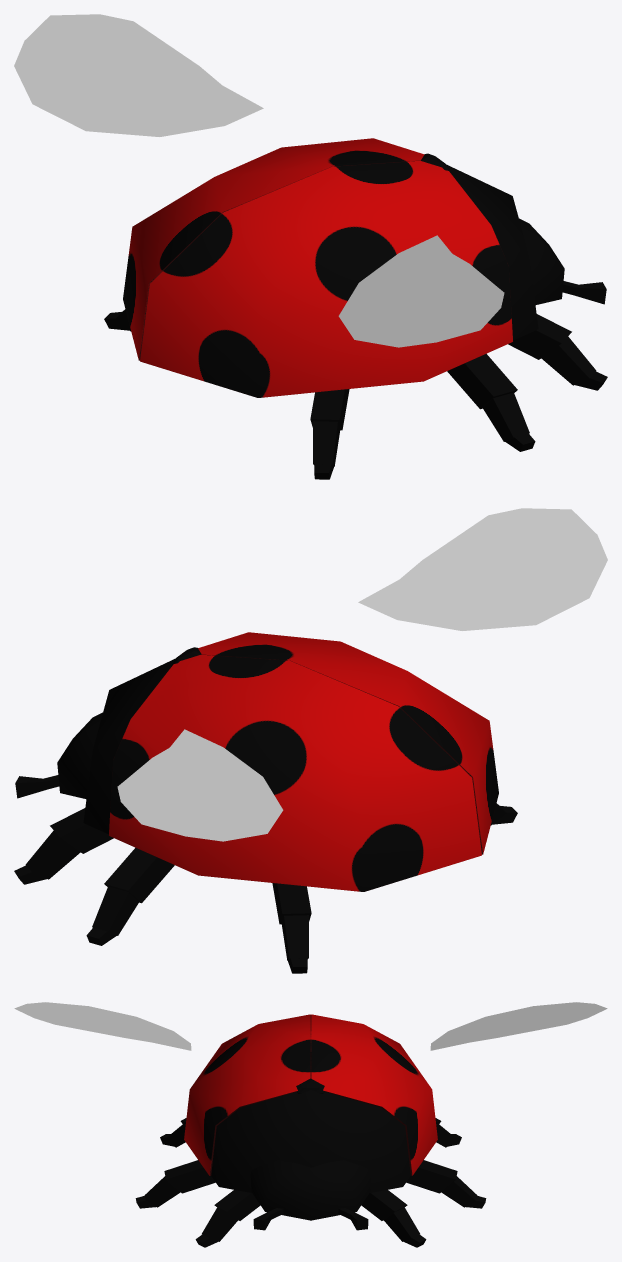
Rendered from ladybug 3.obj.
The picture shows the model from 3 angles, top to bottom: view 1: azimuth 30°, elevation 25°; view 2: azimuth 150°, elevation 25°; view 3: azimuth 270°, elevation 25°; orthographic projection. The views are drawn at different scales.
Visible parts, largest first — view 1: R_wing_shell, L_wing4, L_wing_shell, R_wing3, body2, head, polySurface8 R_leg2, R_leg2 polySurface6, R_leg1 polySurface3, R_leg1 polySurface5, R_leg3 polySurface11, R_leg3 polySurface9 (+1 smaller); view 2: L_wing_shell, R_wing3, R_wing_shell, L_wing4, body2, head, L_leg2 polySurface17, L_leg2 polySurface15, L_leg1 polySurface12, polySurface14 L_leg1, polySurface20 L_leg3, L_leg3 polySurface18 (+1 smaller); view 3: body2, L_wing_shell, R_wing_shell, head, R_wing3, L_wing4, polySurface8 R_leg2, L_leg2 polySurface17, R_leg1 polySurface5, polySurface14 L_leg1, R_leg1 polySurface3, L_leg1 polySurface12 (+4 smaller).
Part boxes in pixels (bbox=[...]): R_wing_shell: bbox=[140, 160, 512, 397]; L_wing4: bbox=[14, 14, 263, 136]; L_wing_shell: bbox=[123, 138, 424, 360]; R_wing3: bbox=[338, 235, 504, 347]; body2: bbox=[420, 153, 538, 340]; head: bbox=[519, 218, 564, 304]; polySurface8 R_leg2: bbox=[447, 353, 517, 409]; R_leg2 polySurface6: bbox=[483, 392, 529, 441]; R_leg1 polySurface3: bbox=[541, 336, 596, 385]; R_leg1 polySurface5: bbox=[508, 314, 571, 359]; R_leg3 polySurface11: bbox=[310, 389, 349, 430]; R_leg3 polySurface9: bbox=[313, 421, 340, 466]; L_wing_shell: bbox=[109, 654, 481, 891]; R_wing3: bbox=[358, 508, 607, 630]; R_wing_shell: bbox=[198, 632, 498, 854]; L_wing4: bbox=[117, 729, 283, 841]; body2: bbox=[83, 647, 201, 834]; head: bbox=[57, 712, 102, 798]; L_leg2 polySurface17: bbox=[104, 847, 174, 903]; L_leg2 polySurface15: bbox=[92, 886, 138, 935]; L_leg1 polySurface12: bbox=[25, 830, 80, 879]; polySurface14 L_leg1: bbox=[50, 808, 113, 853]; polySurface20 L_leg3: bbox=[272, 883, 311, 924]; L_leg3 polySurface18: bbox=[281, 915, 308, 960]; body2: bbox=[211, 1078, 410, 1192]; L_wing_shell: bbox=[311, 1014, 437, 1175]; R_wing_shell: bbox=[184, 1014, 310, 1175]; head: bbox=[250, 1160, 371, 1220]; R_wing3: bbox=[14, 1002, 191, 1050]; L_wing4: bbox=[430, 1002, 607, 1050]; polySurface8 R_leg2: bbox=[164, 1160, 215, 1193]; L_leg2 polySurface17: bbox=[406, 1160, 457, 1193]; R_leg1 polySurface5: bbox=[214, 1190, 260, 1220]; polySurface14 L_leg1: bbox=[361, 1190, 407, 1220]; R_leg1 polySurface3: bbox=[202, 1207, 238, 1241]; L_leg1 polySurface12: bbox=[383, 1207, 419, 1241].
Bounding box in the file's own units: 5.84 × 2.9 × 10.13.
Materials: 1 (1 with a texture image).
